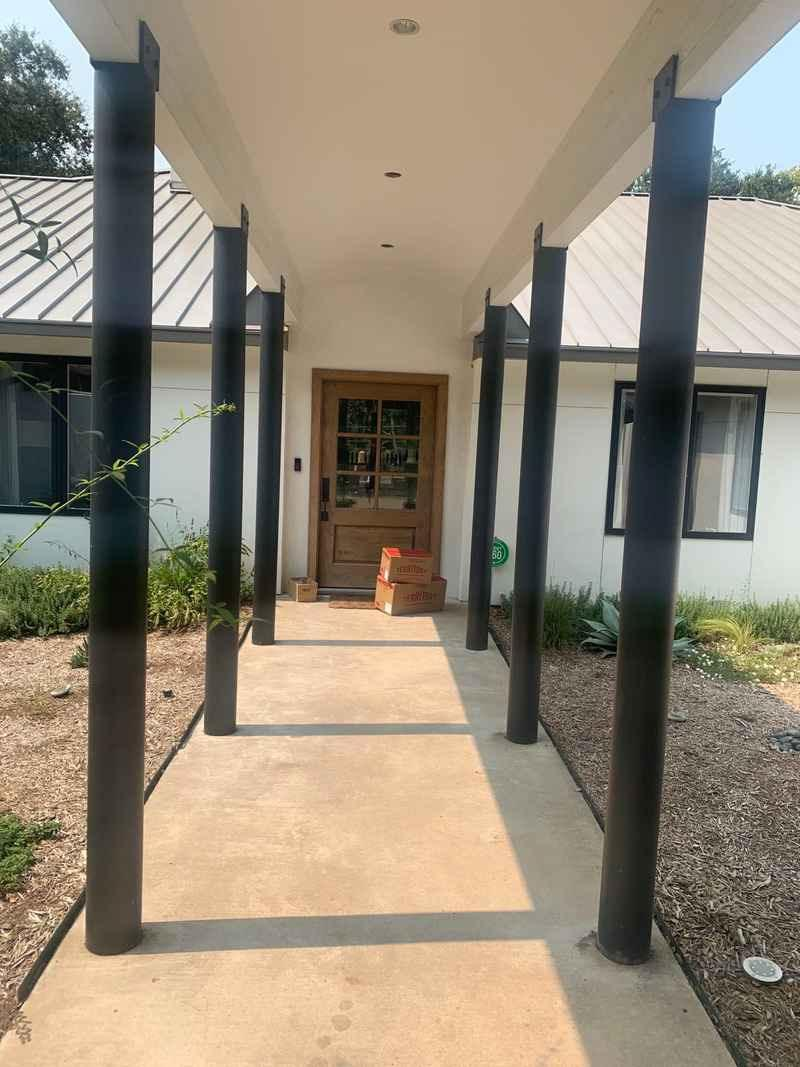package: (370, 573, 445, 619), (373, 543, 439, 585)
